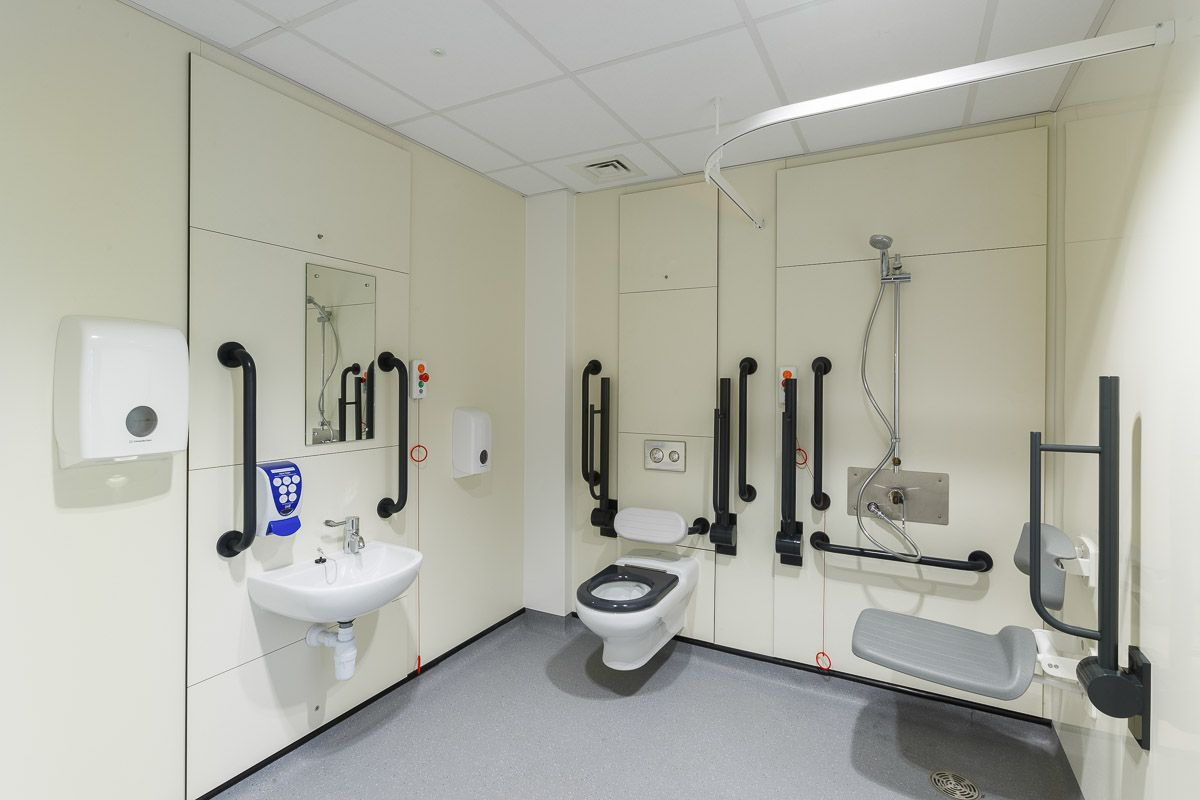dispenser: (35, 305, 192, 475), (258, 457, 306, 554), (447, 406, 495, 482)
faucet: (322, 512, 366, 556)
restroom_assist_bar: (1028, 377, 1152, 735), (203, 339, 261, 561), (808, 527, 997, 576), (368, 350, 410, 523), (574, 355, 623, 492), (774, 374, 805, 560), (805, 355, 835, 512), (711, 381, 736, 560), (734, 358, 754, 504)
sink: (240, 539, 430, 629)
toilet: (574, 549, 701, 673)
